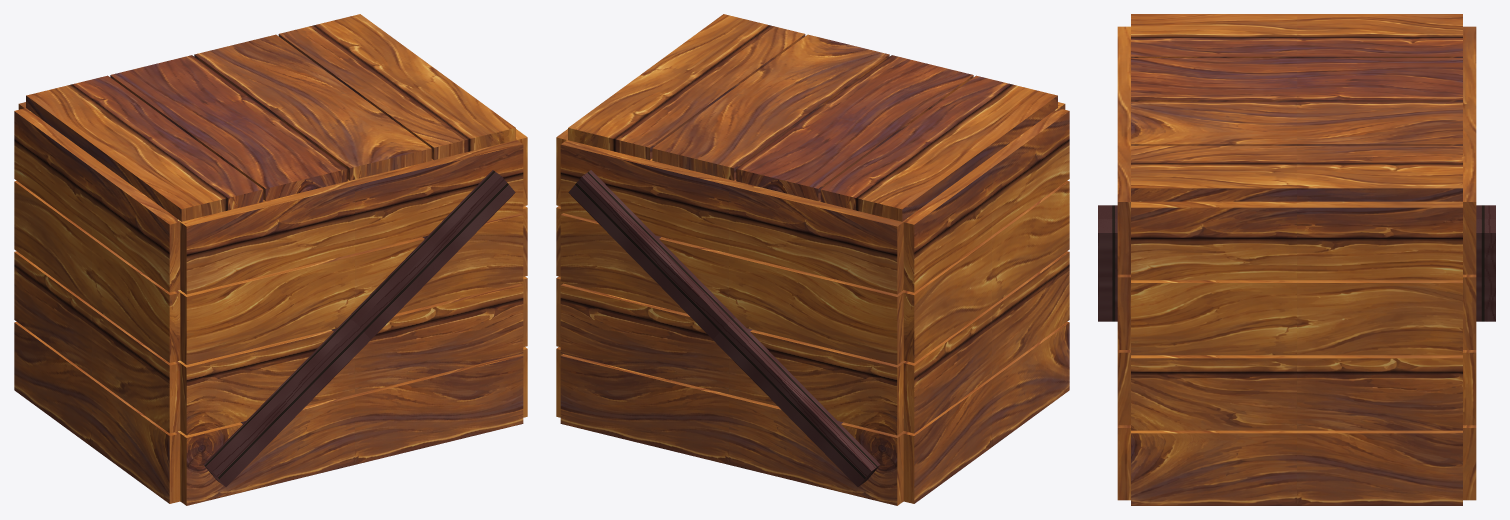
Rendered from Crate_Closed.fbx.
The picture shows the model from 3 angles, left to right: view 1: azimuth 30°, elevation 25°; view 2: azimuth 150°, elevation 25°; view 3: azimuth 270°, elevation 25°; orthographic projection. The views are drawn at different scales.
Parts seen in each view (by area): view 1: Crate long side board.006, Crate long side board, Crate long side board.002, Crate long side board.004, Crate lid board, Crate lid board.002, Crate lid board.003, Crate lid board.001, Crate nailed diagonal brace, Crate short side board.006, Crate short side board, Crate short side board.002 (+1 smaller); view 2: Crate long side board.007, Crate long side board.001, Crate long side board.003, Crate long side board.005, Crate lid board, Crate lid board.002, Crate lid board.003, Crate lid board.001, Crate nailed diagonal brace.001, Crate short side board.006, Crate short side board.002, Crate short side board.004 (+1 smaller); view 3: Crate short side board.007, Crate short side board.001, Crate short side board.003, Crate short side board.005, Crate lid board.003, Crate lid board.002, Crate lid board, Crate lid board.001, Crate long side board.007, Crate long side board.006, Crate nailed diagonal brace, Crate nailed diagonal brace.001 (+6 smaller).
Part boxes in pixels (x1,y1,x2,y2): Crate long side board.006: [174, 139, 523, 294]; Crate long side board: [178, 354, 523, 505]; Crate long side board.002: [178, 283, 523, 435]; Crate long side board.004: [178, 213, 523, 364]; Crate lid board: [26, 75, 263, 221]; Crate lid board.002: [194, 34, 431, 180]; Crate lid board.003: [278, 14, 515, 160]; Crate lid board.001: [110, 55, 347, 200]; Crate nailed diagonal brace: [203, 170, 515, 486]; Crate short side board.006: [14, 108, 181, 292]; Crate short side board: [14, 321, 181, 503]; Crate short side board.002: [14, 251, 180, 433]; Crate long side board.007: [560, 139, 909, 294]; Crate long side board.001: [560, 354, 905, 505]; Crate long side board.003: [560, 283, 905, 435]; Crate long side board.005: [560, 213, 905, 364]; Crate lid board: [820, 75, 1057, 221]; Crate lid board.002: [652, 34, 889, 180]; Crate lid board.003: [568, 14, 805, 160]; Crate lid board.001: [736, 55, 973, 200]; Crate nailed diagonal brace.001: [568, 170, 880, 486]; Crate short side board.006: [903, 108, 1069, 292]; Crate short side board.002: [903, 251, 1069, 433]; Crate short side board.004: [902, 181, 1069, 362]; Crate short side board.007: [1131, 201, 1462, 280]; Crate short side board.001: [1131, 430, 1462, 505]; Crate short side board.003: [1131, 355, 1462, 430]; Crate short side board.005: [1131, 280, 1462, 355]; Crate lid board.003: [1131, 145, 1462, 201]; Crate lid board.002: [1131, 101, 1462, 145]; Crate lid board: [1131, 14, 1462, 57]; Crate lid board.001: [1131, 58, 1462, 101]; Crate long side board.007: [1450, 26, 1476, 274]; Crate long side board.006: [1117, 26, 1142, 274]; Crate nailed diagonal brace: [1098, 205, 1117, 321]; Crate nailed diagonal brace.001: [1476, 205, 1495, 321].
Bounding box in the file's own units: 117 × 91.5 × 105.
